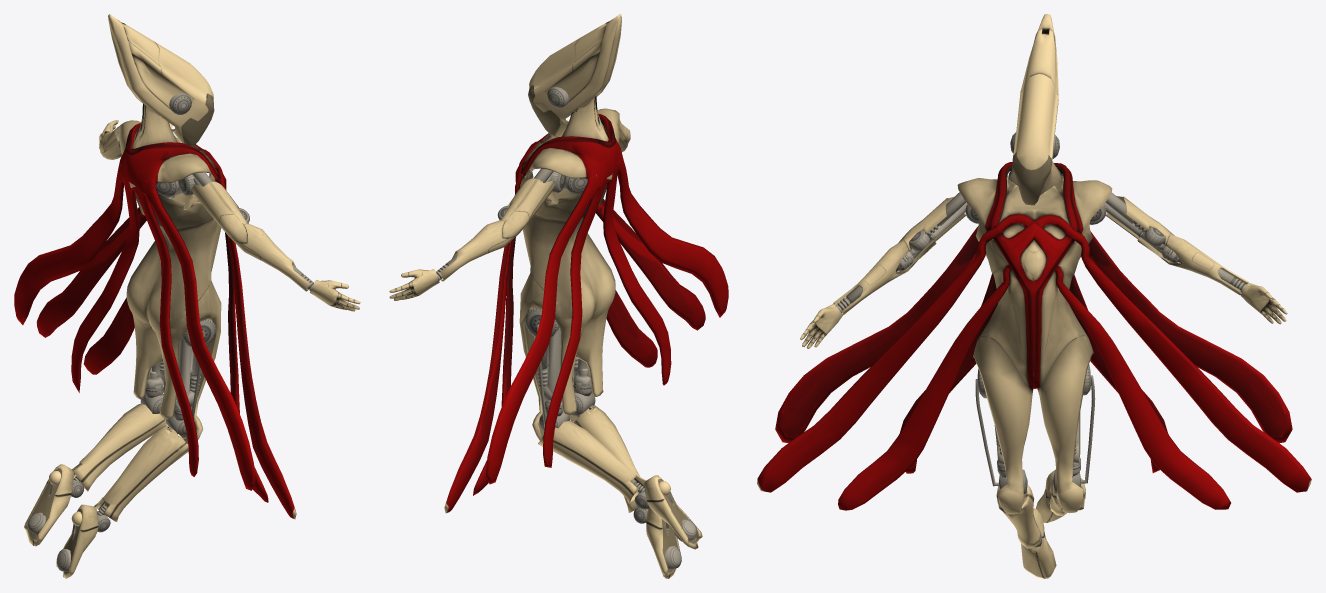
The model's file is SM_S_Soul_Statue.glb.
The picture shows the model from 3 angles, left to right: view 1: azimuth 30°, elevation 25°; view 2: azimuth 150°, elevation 25°; view 3: azimuth 270°, elevation 25°; orthographic projection. The views are drawn at different scales.
Parts seen in each view (by area): view 1: SM_S_Soul_Statue; view 2: SM_S_Soul_Statue; view 3: SM_S_Soul_Statue.
Part boxes in pixels (x1,y1,x2,y2): SM_S_Soul_Statue: (14,14,360,578); SM_S_Soul_Statue: (389,14,728,578); SM_S_Soul_Statue: (757,14,1311,578).
Size of the model in its own units: 1.57 by 3.86 by 3.29.
Materials: 4 (4 with a texture image).
